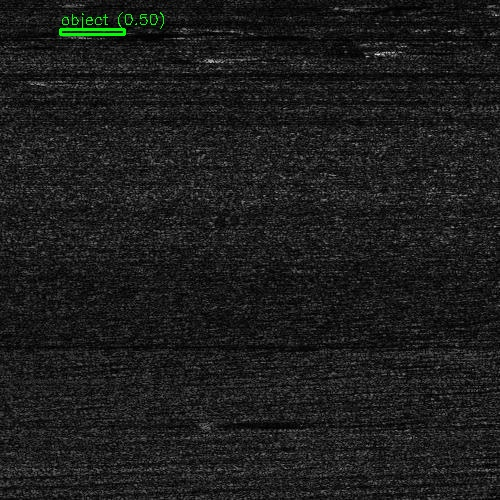rock: (29, 27, 134, 36), (458, 8, 500, 15), (191, 417, 222, 426), (359, 48, 412, 53)
shadow: (207, 417, 298, 426), (82, 27, 164, 36), (386, 48, 418, 53)
